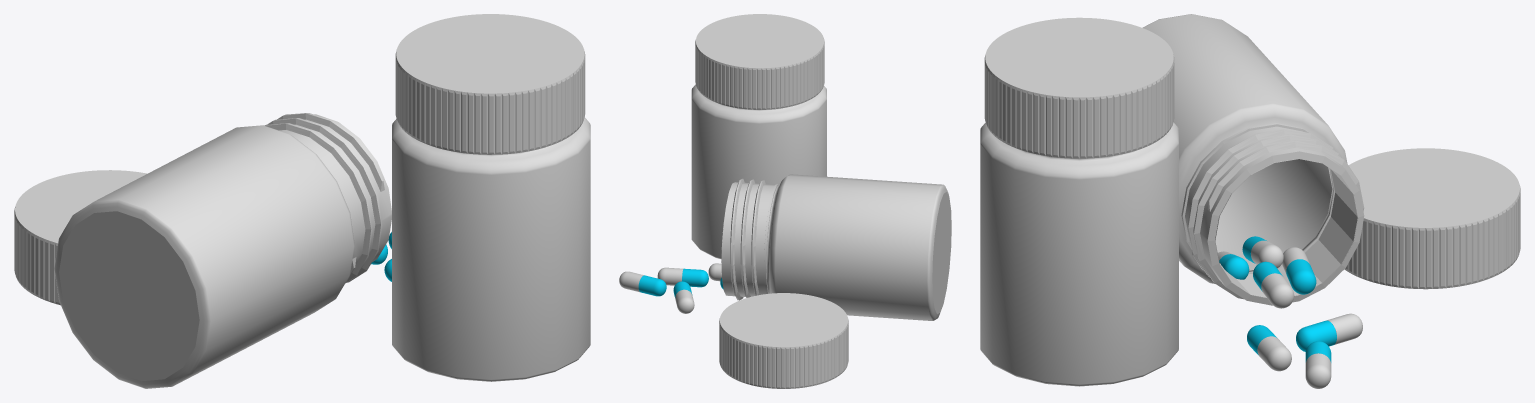
Rendered from nitroglicerina.fbx.
The picture shows the model from 3 angles, left to right: view 1: azimuth 30°, elevation 25°; view 2: azimuth 150°, elevation 25°; view 3: azimuth 270°, elevation 25°; orthographic projection. The views are drawn at different scales.
Parts seen in each view (by area): view 1: Cylinder018; view 2: Cylinder018; view 3: Cylinder018.
Boxes of the visible parts, bbox=[...] form: Cylinder018: bbox=[14, 14, 590, 388]; Cylinder018: bbox=[619, 14, 951, 388]; Cylinder018: bbox=[980, 14, 1520, 388].
Size of the model in its own units: 0.2424 by 0.1579 by 0.2633.
